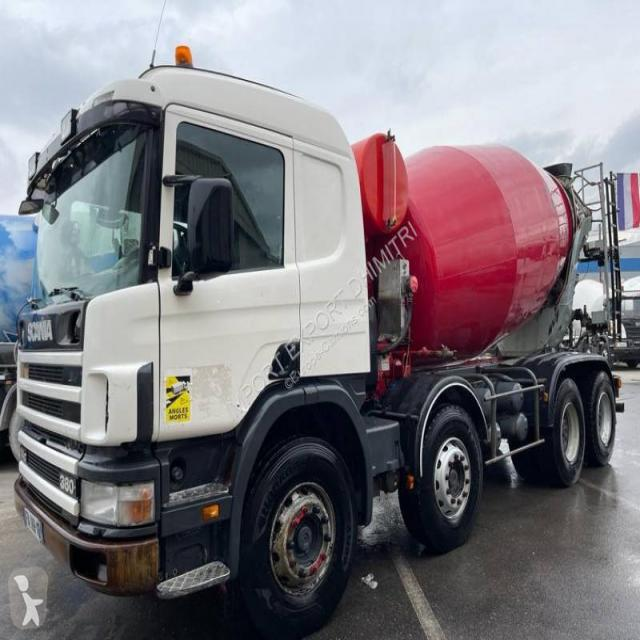Mixer Truck: (16, 64, 624, 640)
